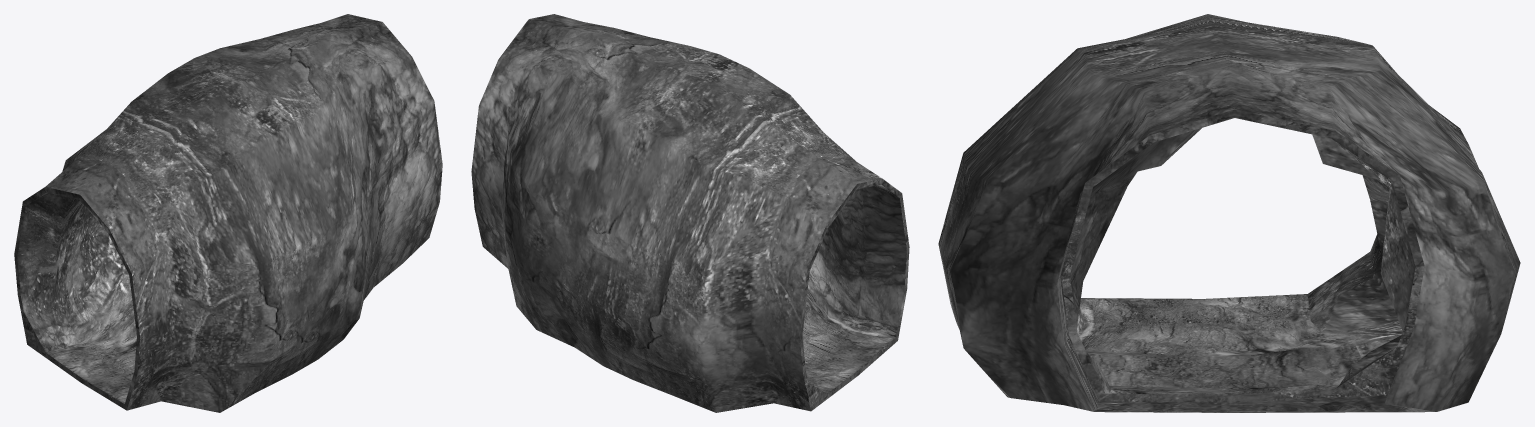
Rendered from caveramp3.fbx.
The picture shows the model from 3 angles, left to right: view 1: azimuth 30°, elevation 25°; view 2: azimuth 150°, elevation 25°; view 3: azimuth 270°, elevation 25°; orthographic projection. The views are drawn at different scales.
Visible parts, largest first — view 1: caveramp3; view 2: caveramp3; view 3: caveramp3.
Part boxes in pixels (box(x1,y1,x2,y2)): caveramp3: box(14, 14, 442, 412); caveramp3: box(471, 14, 909, 412); caveramp3: box(938, 14, 1520, 412).
Bounding box in the file's own units: 162 × 135 × 163.
Materials: 1 (1 with a texture image).
